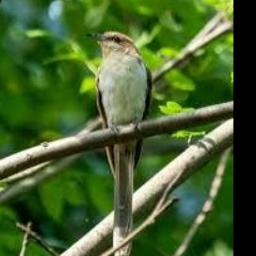Cuckoo: (84, 31, 152, 256)
